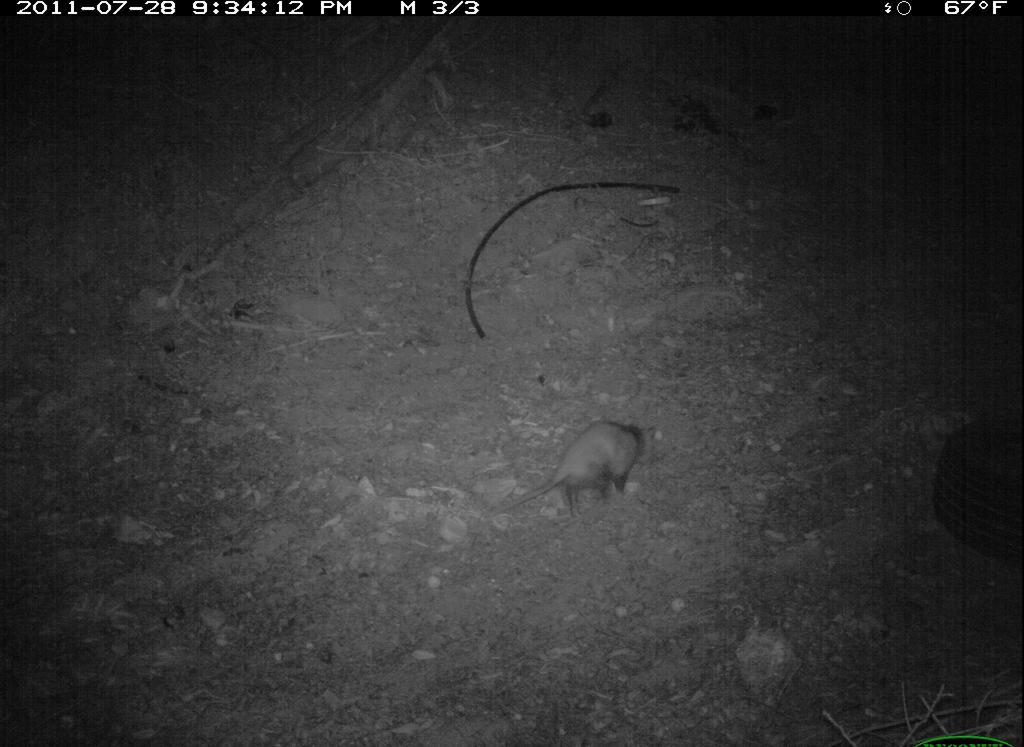opossum: (495, 415, 660, 528)
